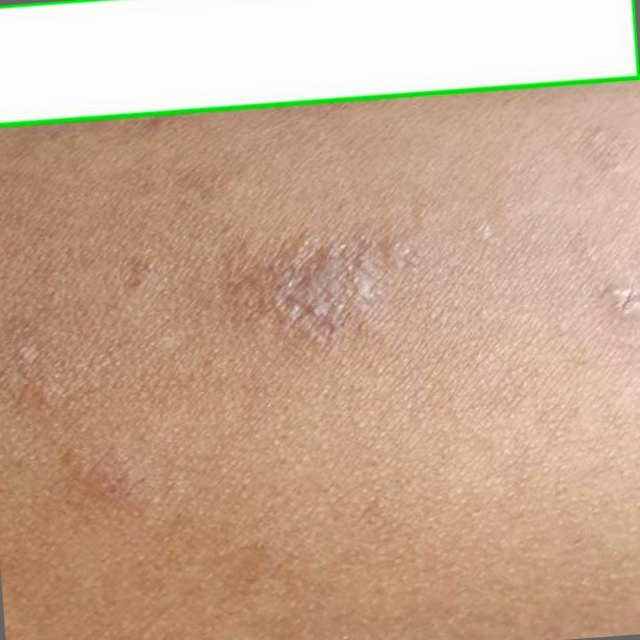Scabies: (0, 0, 639, 125)
